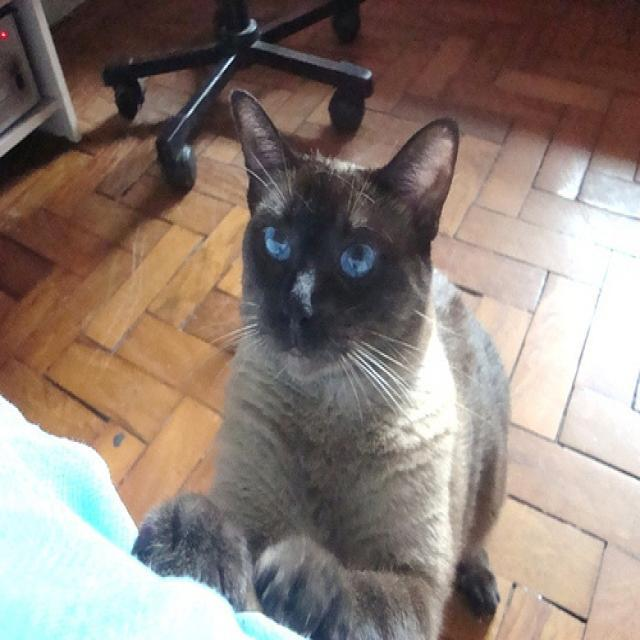Siamese: (224, 82, 466, 393)
